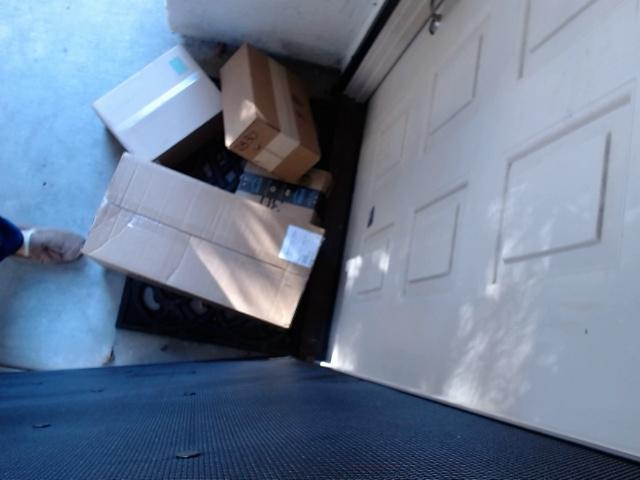box: (69, 151, 329, 342), (199, 10, 331, 182), (67, 30, 218, 170), (236, 136, 336, 243)
